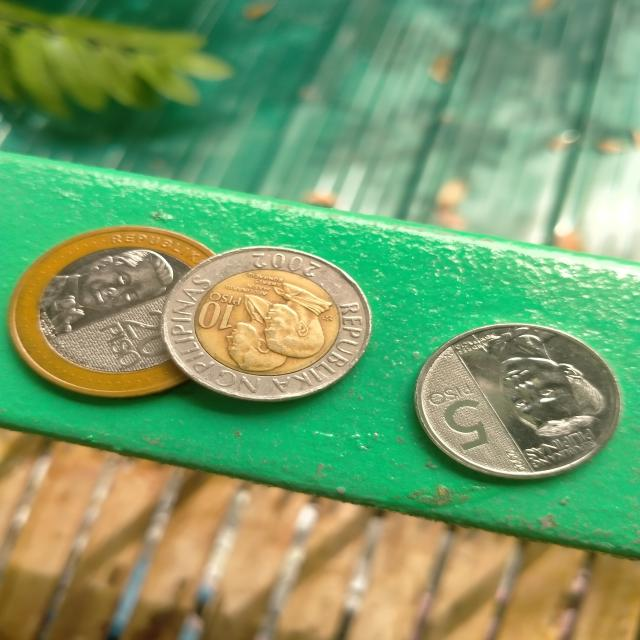10_Old_Front: (185, 285, 253, 336)
20_New_Front: (95, 298, 198, 375)
5_New_Front: (417, 376, 506, 454)
